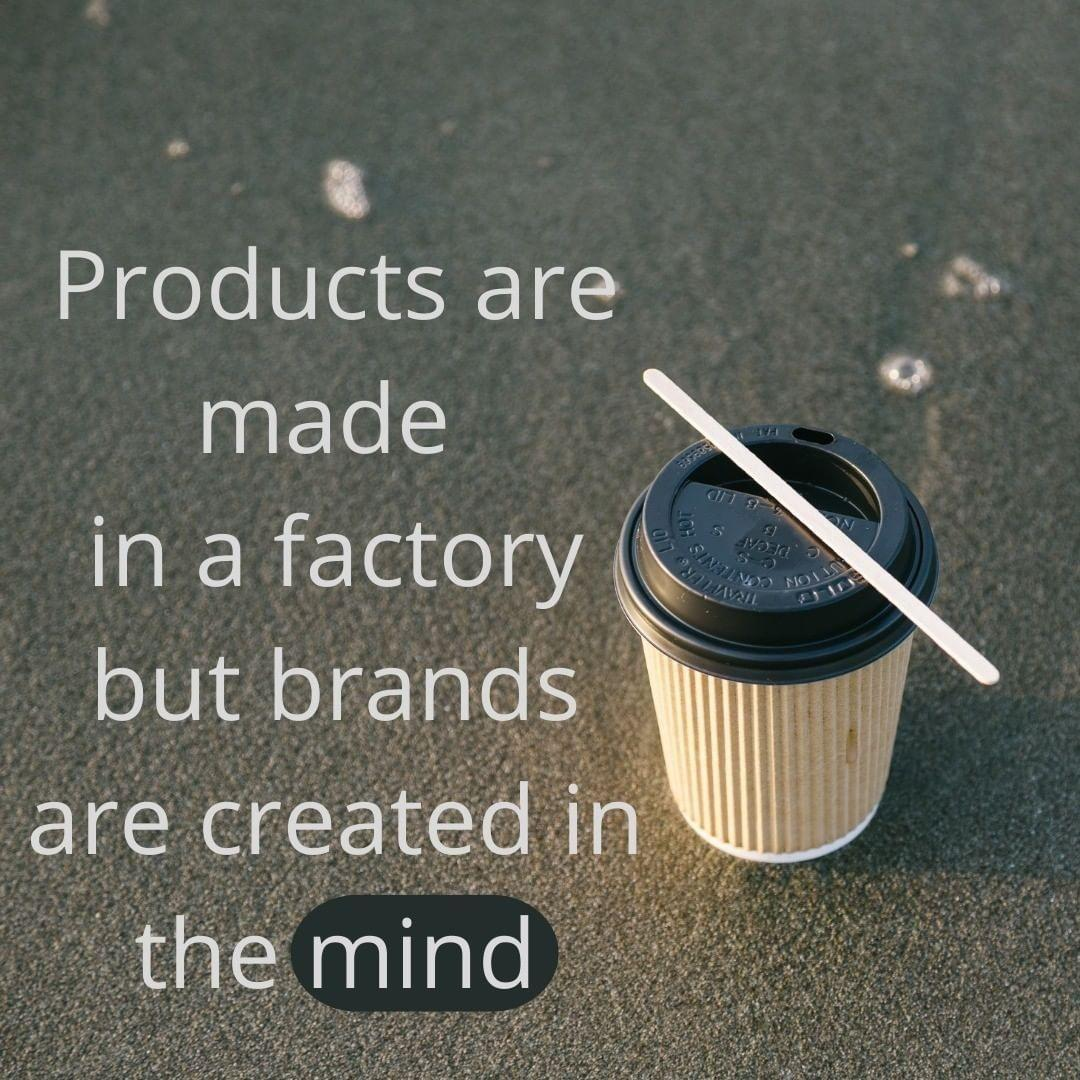cup-disposable: (601, 419, 951, 870)
